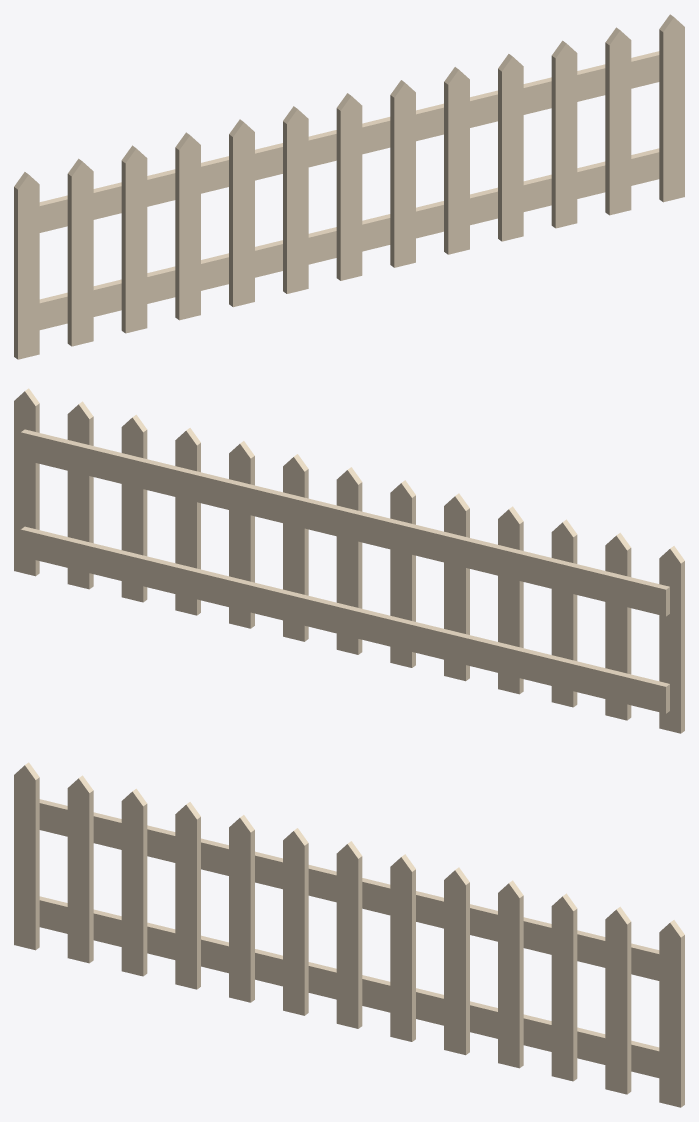
The model's file is fence.glb.
3 views of the same model, one above another, from view 1: azimuth 30°, elevation 25°; view 2: azimuth 150°, elevation 25°; view 3: azimuth 330°, elevation 25° (orthographic).
Parts seen in each view (by area): view 1: Body1; view 2: Body1; view 3: Body1.
Part boxes in pixels (x1,y1,x2,y2): Body1: [14, 14, 684, 359]; Body1: [14, 388, 684, 733]; Body1: [14, 762, 684, 1107].
Size of the model in its own units: 2.85 by 0.7463 by 0.06.
